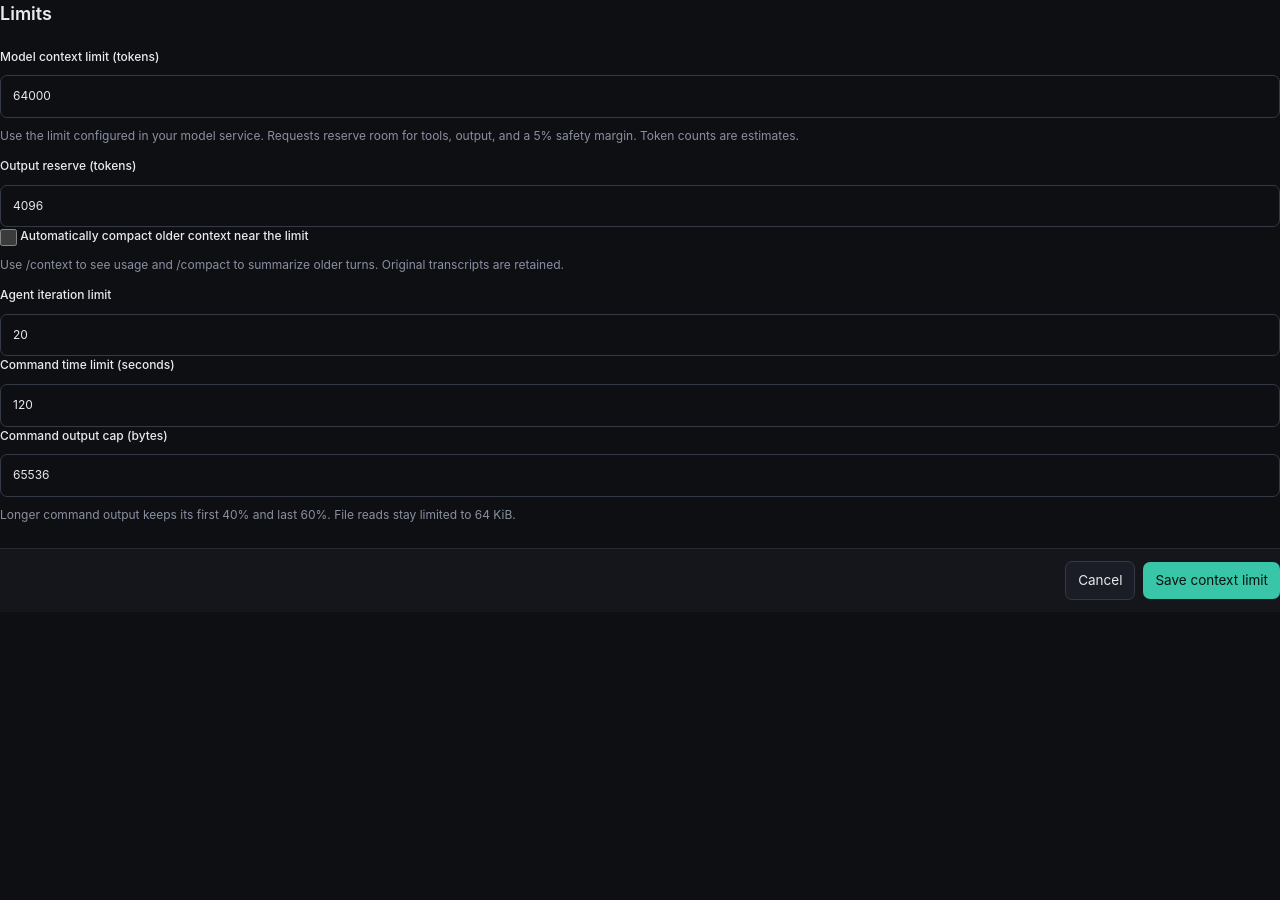
Scenario: memory management › starts web limits clean and restores their loaded values
Expected: the button "Cancel" is disabled, [1065,561,1135,600]
Replace the text in the number field labelled "Model context limit (tokens)" with "32000" at (640, 97), box [0,76,1279,118]
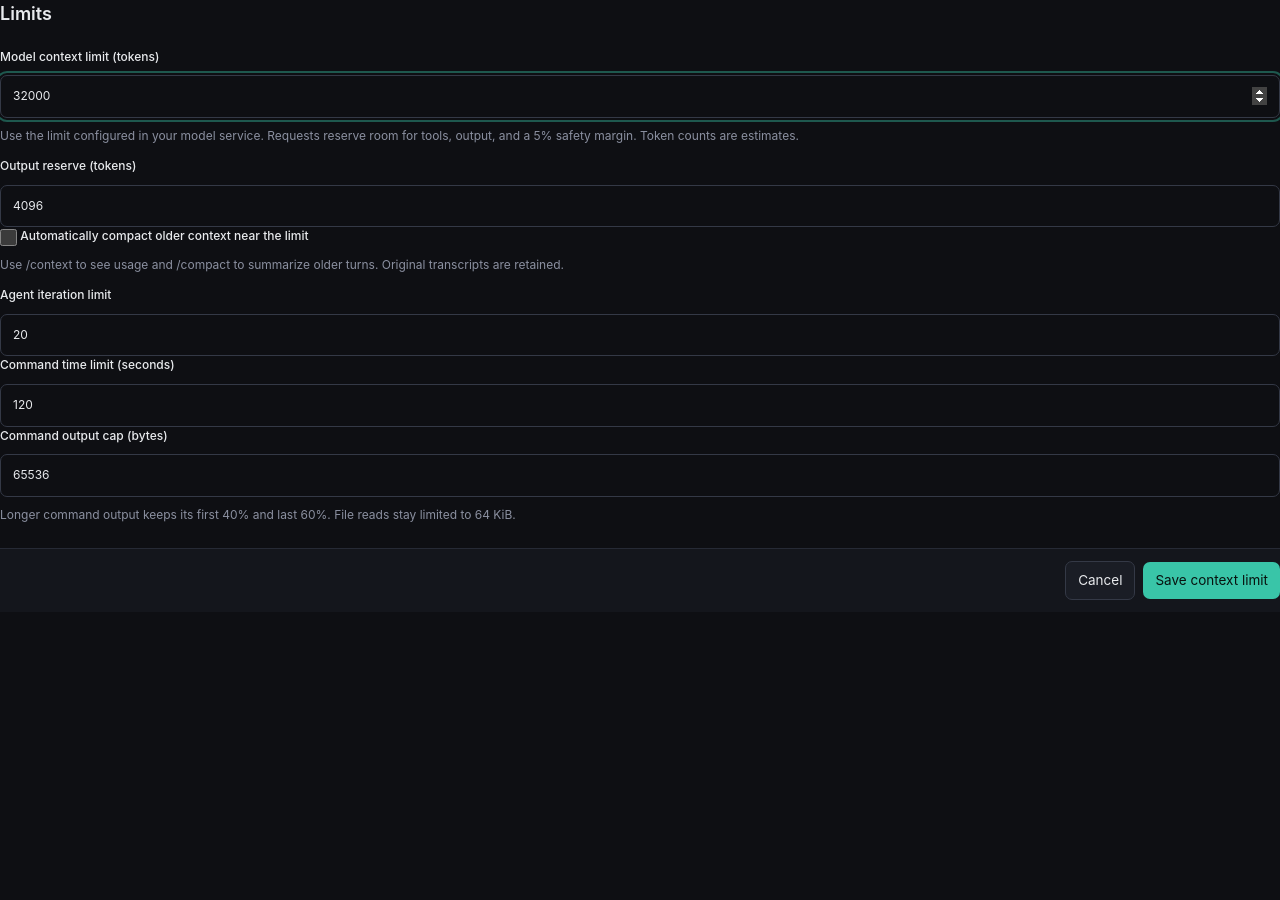
Click the button "Cancel" at (1100, 580), box [1065,561,1135,600]
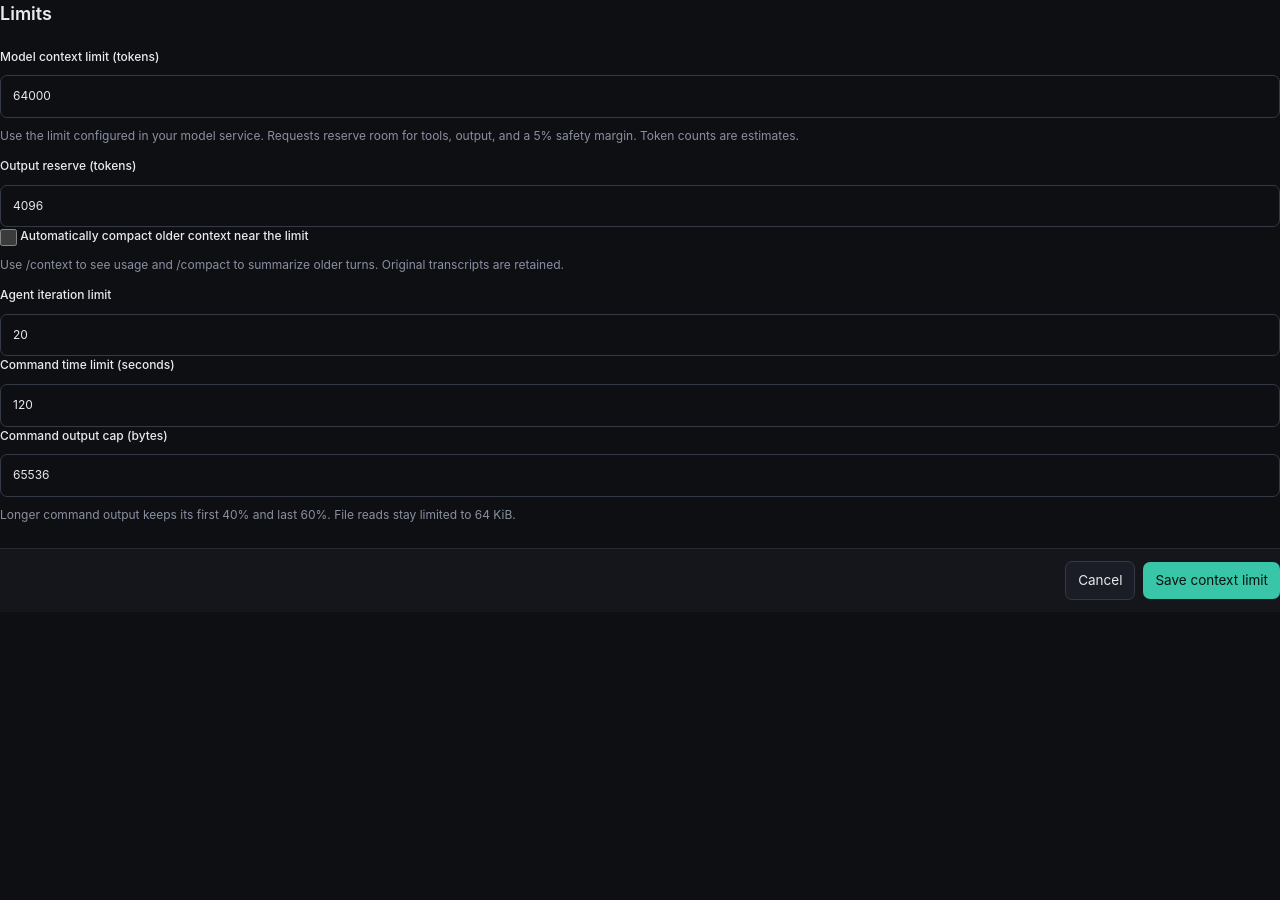
Now the number field labelled "Model context limit (tokens)" holds "64000", box [0,76,1279,118]
